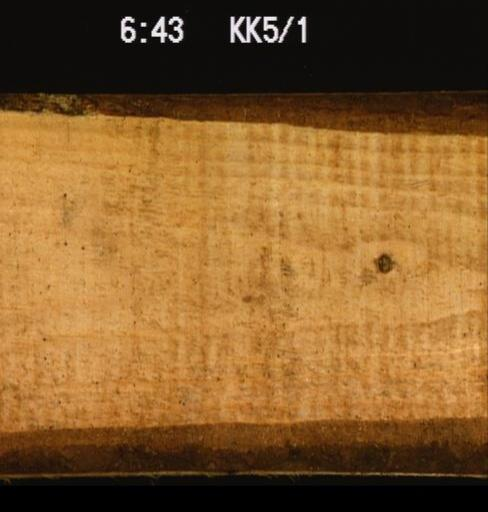dry_knot: (375, 250, 390, 272)
wave: (0, 414, 486, 475), (0, 91, 486, 135)
